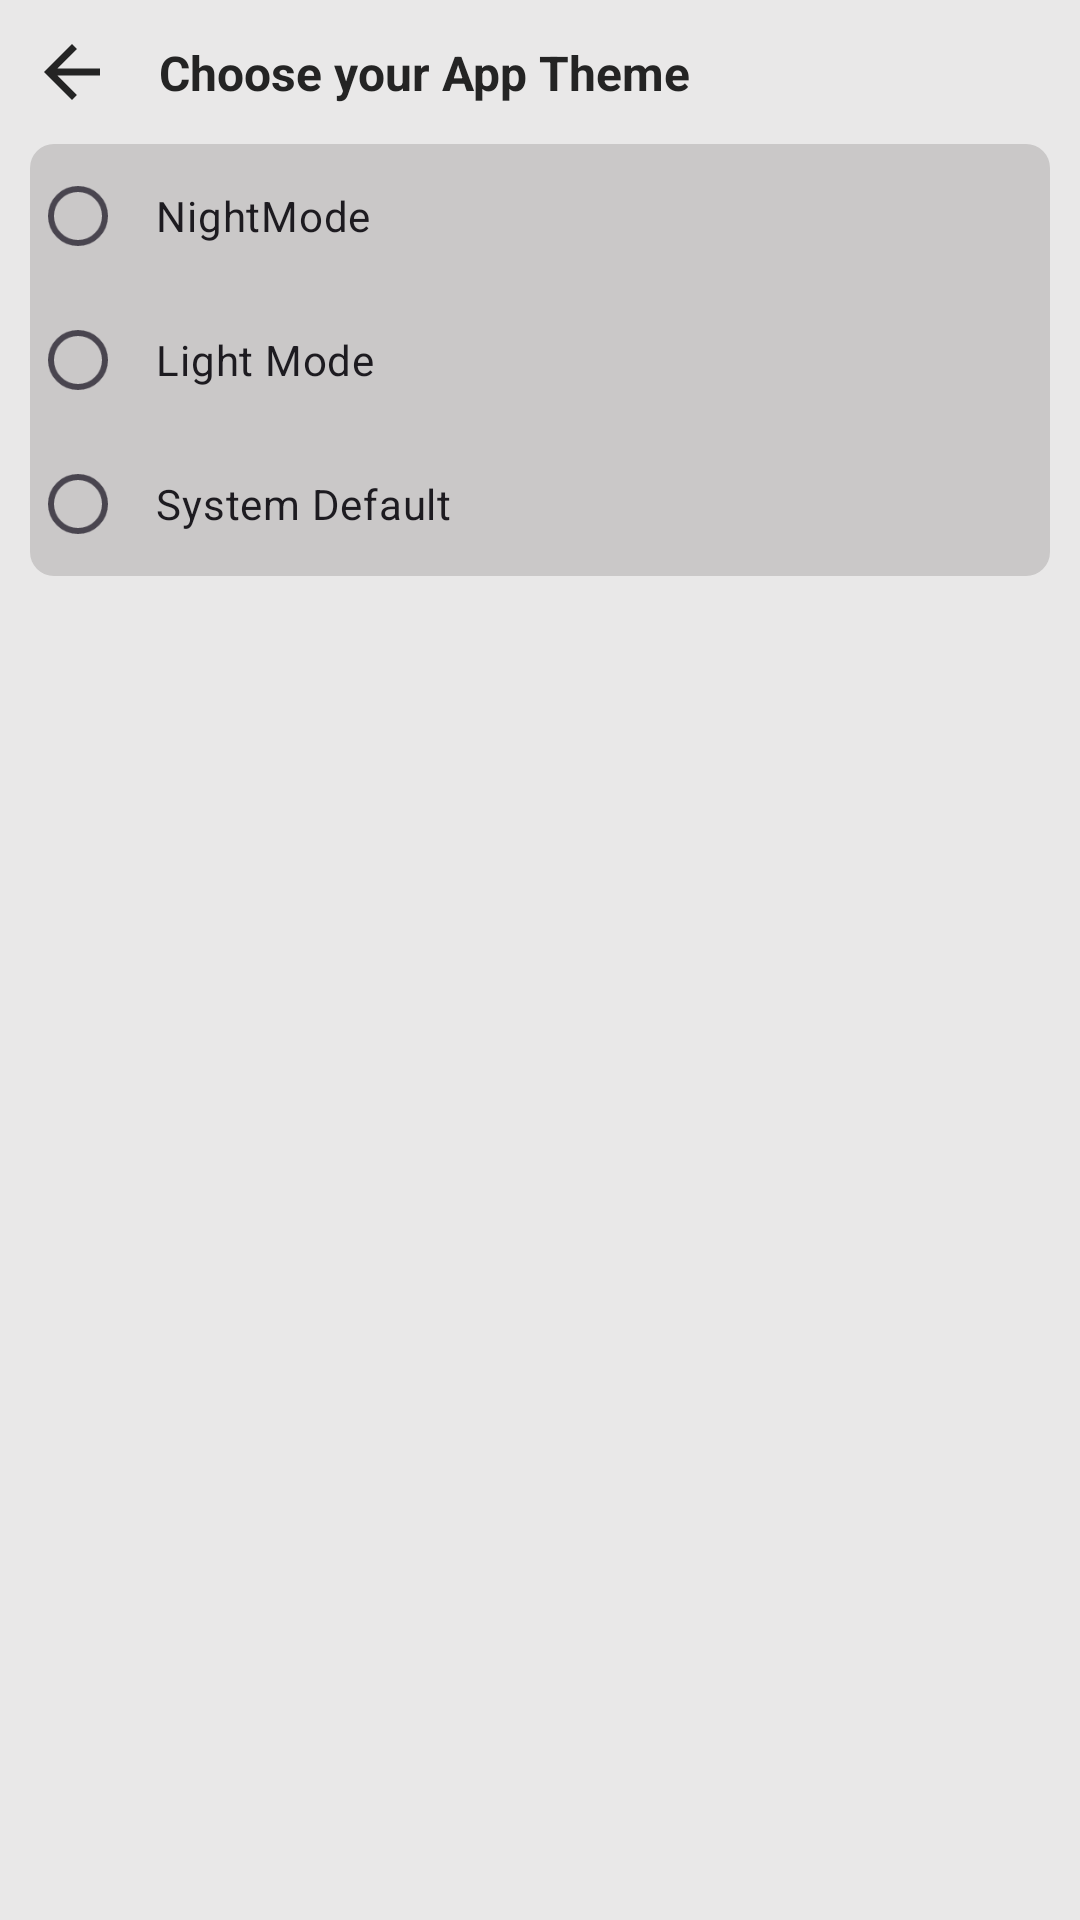

Icons on this 1080px x 1920px Android screen, each with the point to tap as (x=x, y=y):
back: (x=72, y=72)
